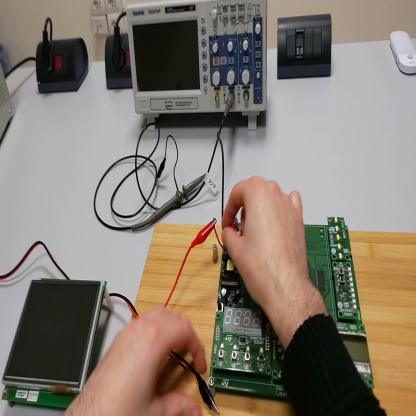hand: (77, 305, 207, 414), (221, 175, 312, 309)
low voltage board: (210, 137, 378, 408)
oscilloscope: (125, 3, 270, 131)
oscilloscope probe tip: (133, 174, 209, 233)
power supply: (1, 59, 16, 144)
socket: (37, 36, 90, 96), (104, 36, 134, 89)
working area: (133, 223, 416, 415)
